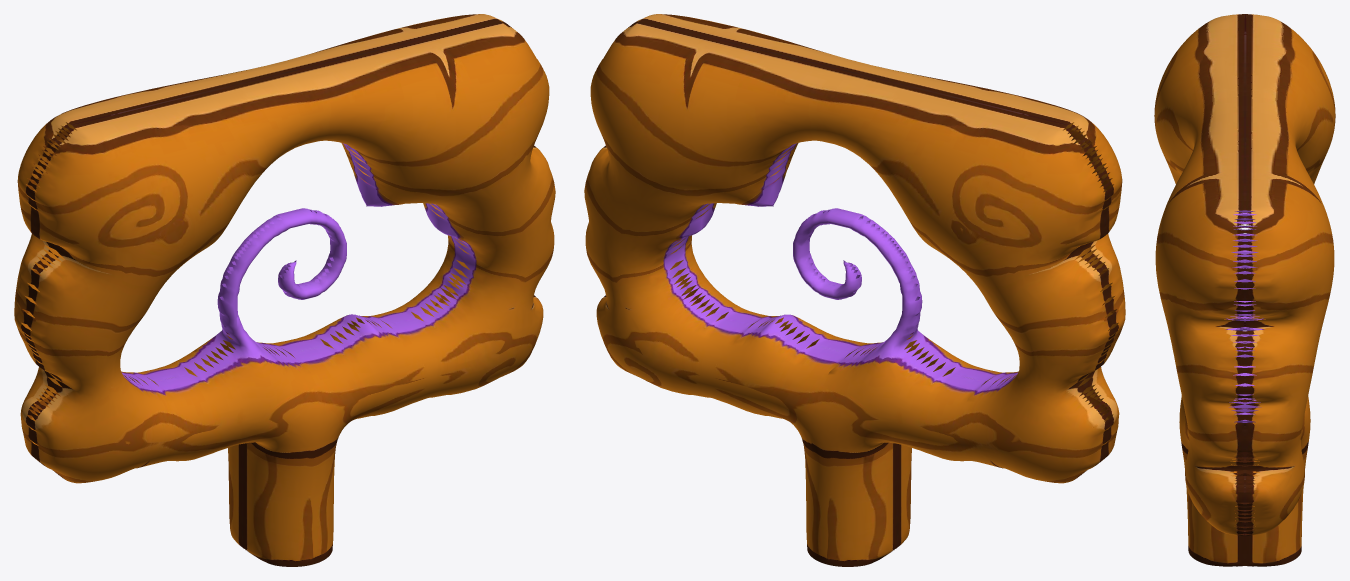
Rendered from cloud_sign.glb.
The picture shows the model from 3 angles, left to right: view 1: azimuth 30°, elevation 25°; view 2: azimuth 150°, elevation 25°; view 3: azimuth 270°, elevation 25°; orthographic projection. The views are drawn at different scales.
Visible parts, largest first — view 1: cloud_sign; view 2: cloud_sign; view 3: cloud_sign.
Part boxes in pixels (box(x1,y1,x2,y2)): cloud_sign: box(14, 14, 555, 566); cloud_sign: box(584, 14, 1125, 566); cloud_sign: box(1154, 14, 1335, 566).
Size of the model in its own units: 0.9886 by 0.8535 by 0.3177.
1 material, 1 textured.
